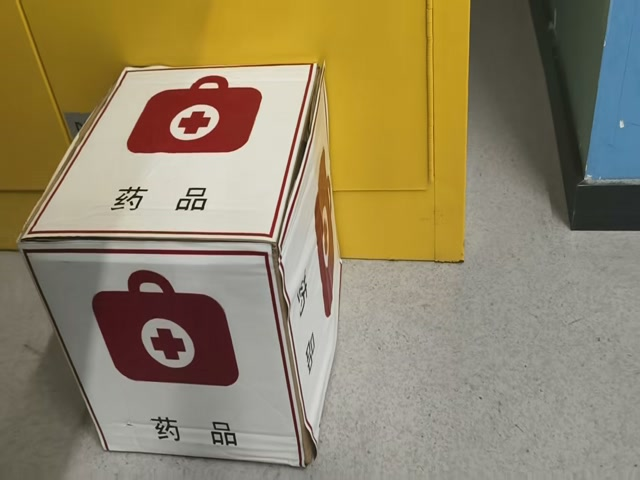Cube_medicine: (19, 64, 323, 254)
